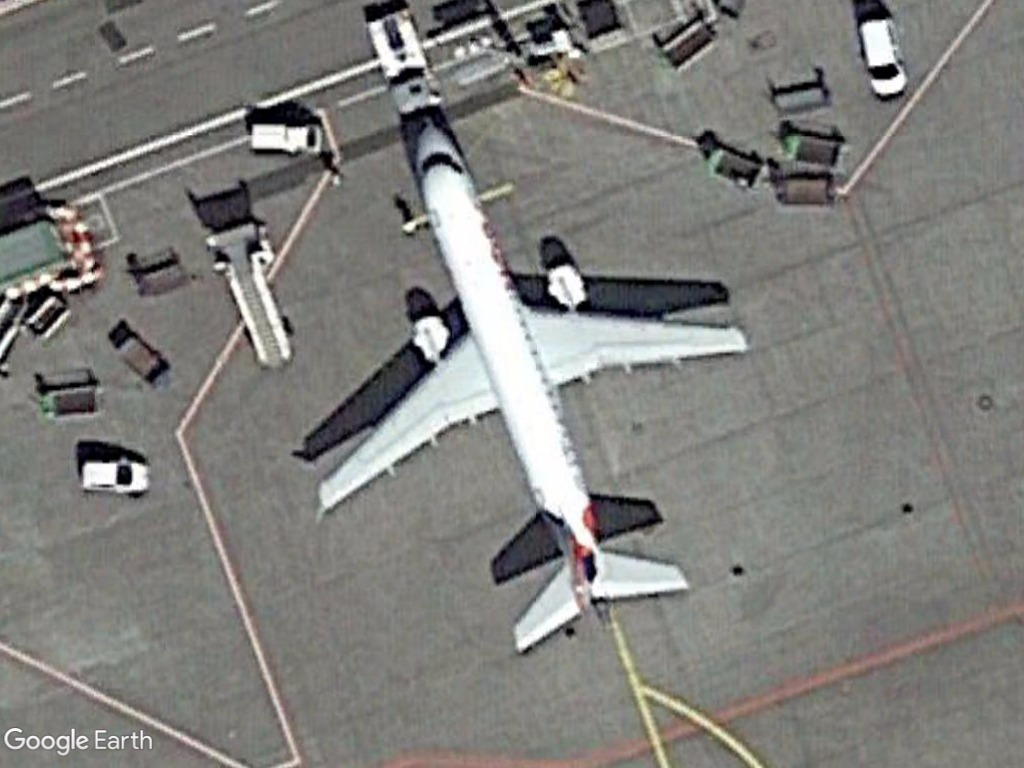airliner: (304, 116, 752, 659)
stairtruck: (202, 226, 303, 370)
van: (854, 15, 909, 100), (77, 457, 153, 497)
